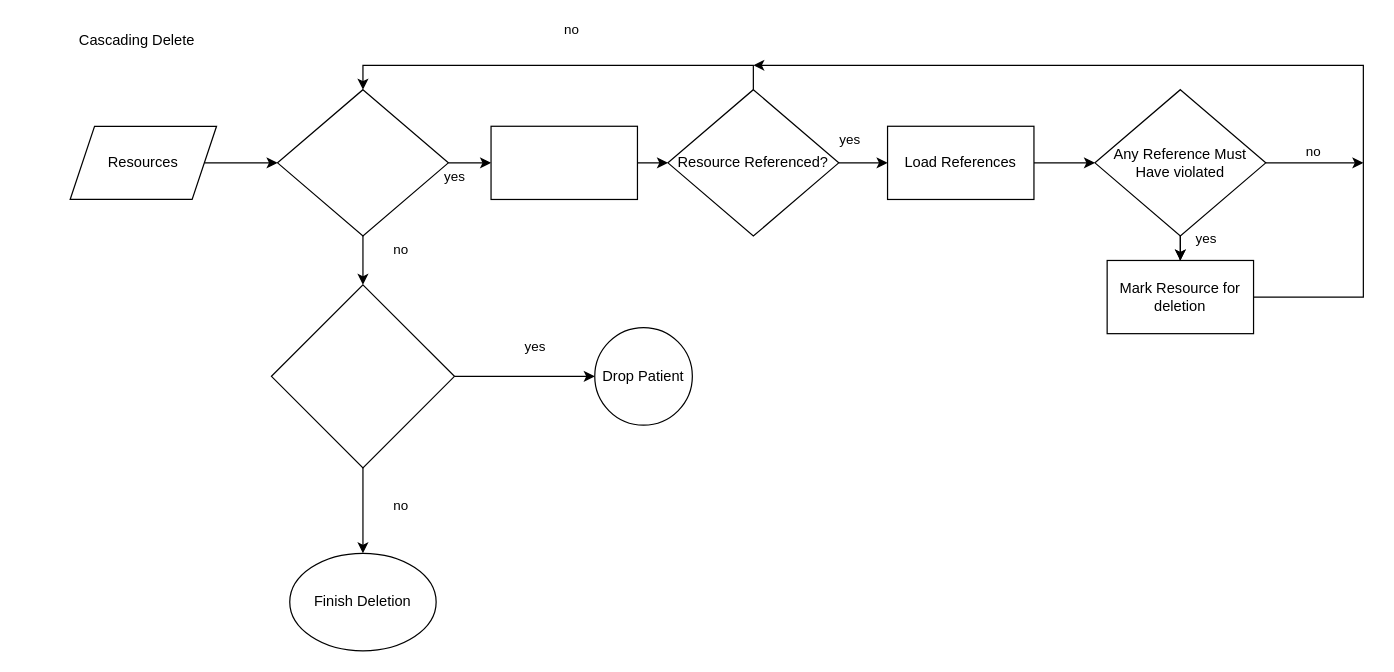
Some shapes in this 1394 by 672 pixel diagram are drawn without their labels. Here are the shapes that lost their labels. From the top down, the box of each, then its label:
(276, 88, 448, 236): Any Resources marked for Deletion
(490, 125, 637, 199): Delete Resource
(270, 284, 454, 468): Any directly loaded Attribute Group with must haves without resources?
